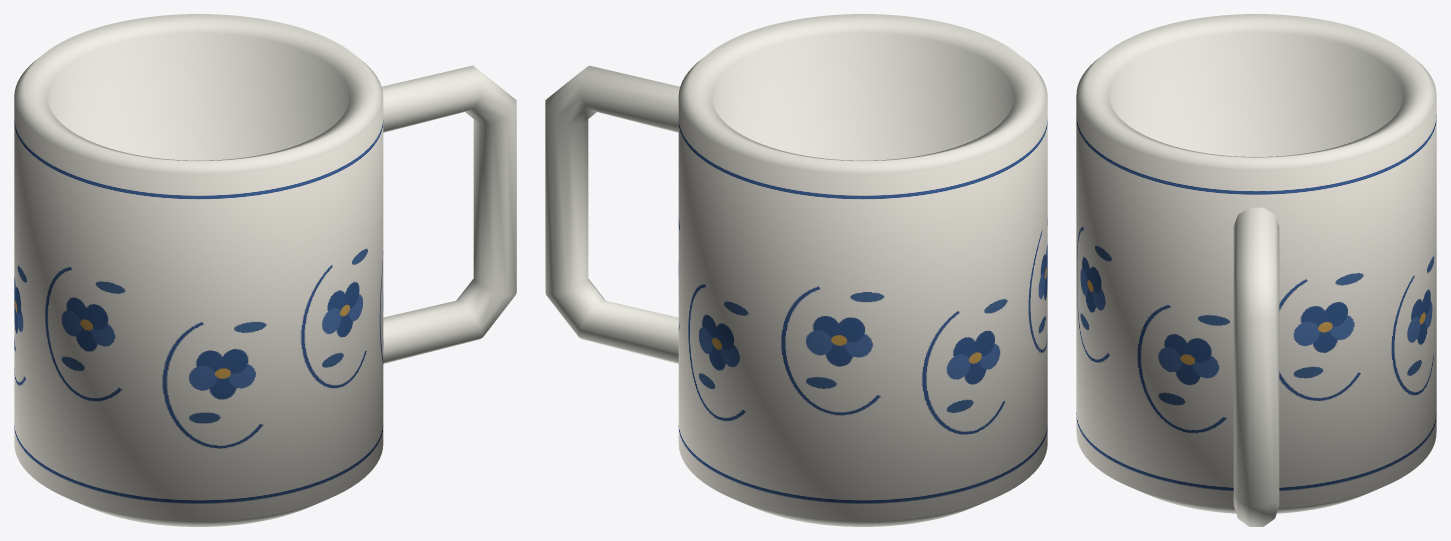
The model's file is mug.gltf.
The picture shows the model from 3 angles, left to right: view 1: azimuth 30°, elevation 25°; view 2: azimuth 150°, elevation 25°; view 3: azimuth 270°, elevation 25°; orthographic projection. The views are drawn at different scales.
Visible parts, largest first — view 1: Open porcelain cup; view 2: Open porcelain cup; view 3: Open porcelain cup.
Part boxes in pixels (bbox=[...]): Open porcelain cup: bbox=[14, 14, 516, 526]; Open porcelain cup: bbox=[545, 14, 1047, 526]; Open porcelain cup: bbox=[1076, 14, 1436, 526].
Bounding box in the file's own units: 0.1632 × 0.123 × 0.11.
Materials: 2 (1 with a texture image).
